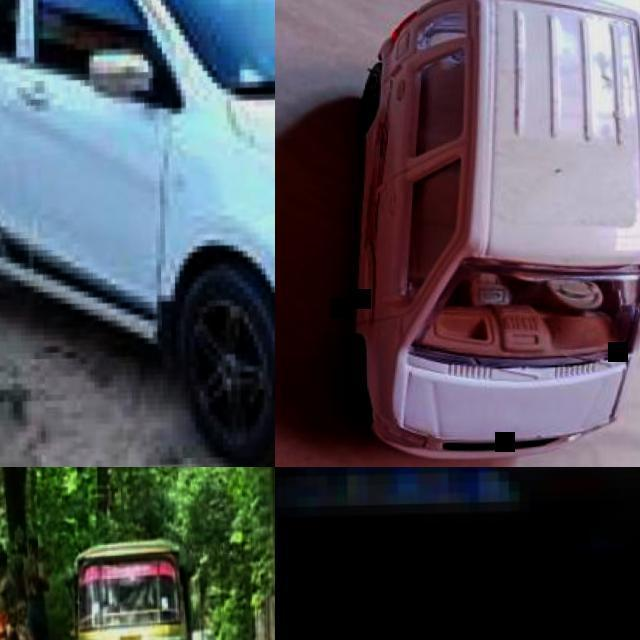car: (0, 0, 272, 437)
